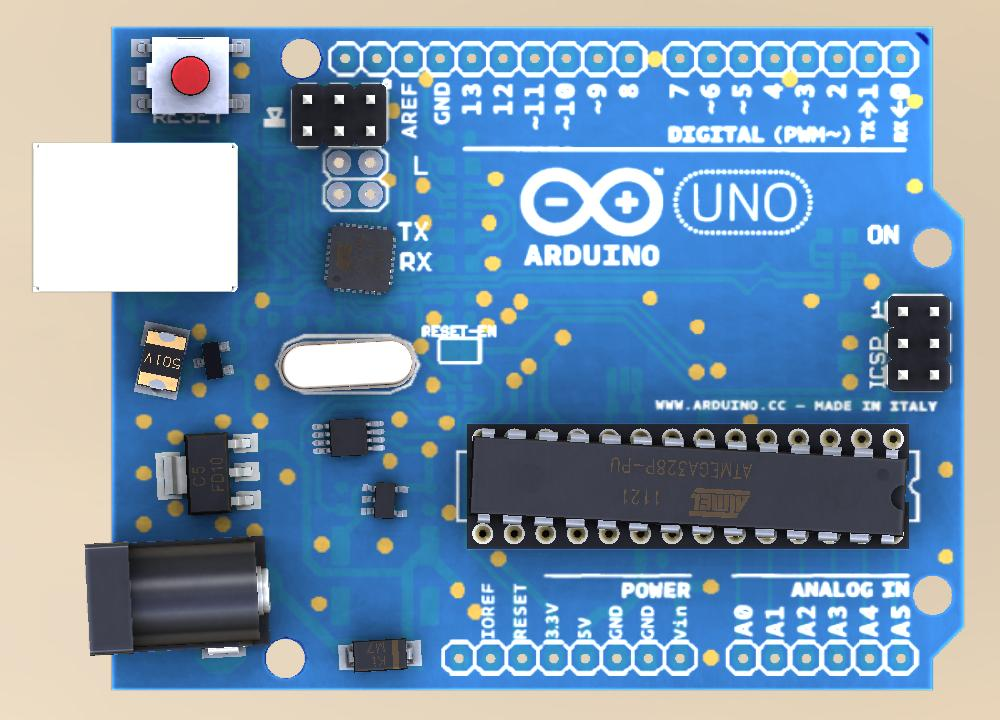ATMEL328P: (466, 421, 909, 552)
ATMega16u2: (320, 221, 398, 295)
Crystal: (279, 330, 419, 399)
Fuse: (131, 319, 186, 398)
LMV358: (357, 476, 414, 525)
M7 diode: (336, 633, 425, 677)
Missing: (331, 39, 646, 79), (667, 36, 918, 81), (439, 639, 702, 679), (376, 534, 463, 621), (729, 644, 918, 677), (307, 536, 381, 618), (433, 176, 480, 227), (833, 307, 865, 375), (814, 249, 858, 293), (251, 209, 289, 258), (443, 376, 482, 417), (600, 364, 647, 397)
PIN Header: (290, 81, 390, 146), (889, 296, 953, 392)
Power: (79, 533, 273, 656)
Regulator: (137, 417, 271, 529)
Reset: (127, 37, 250, 114)
SSOT3: (193, 339, 237, 379)
USB: (30, 140, 239, 293)
lp2985: (311, 419, 386, 458)
